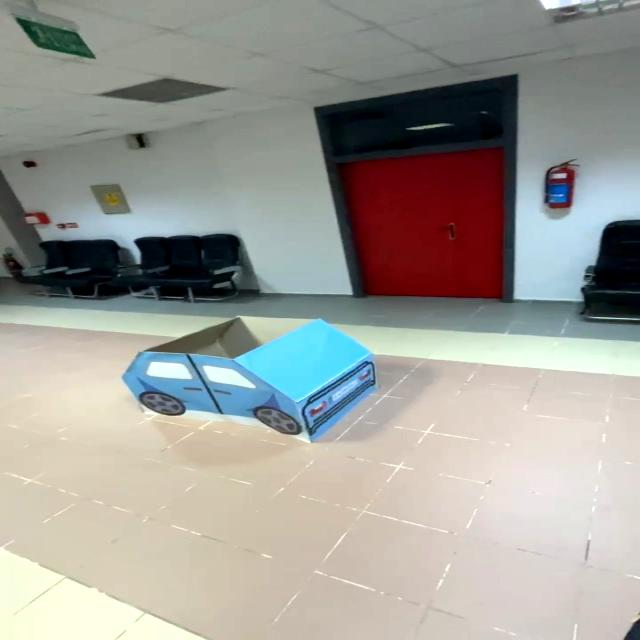blue_car: (100, 308, 407, 454)
